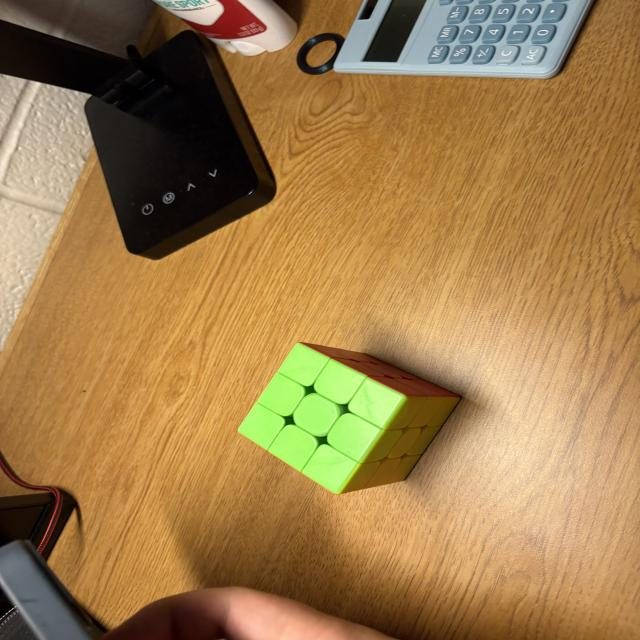Rubiks Cube: (232, 341, 461, 494)
